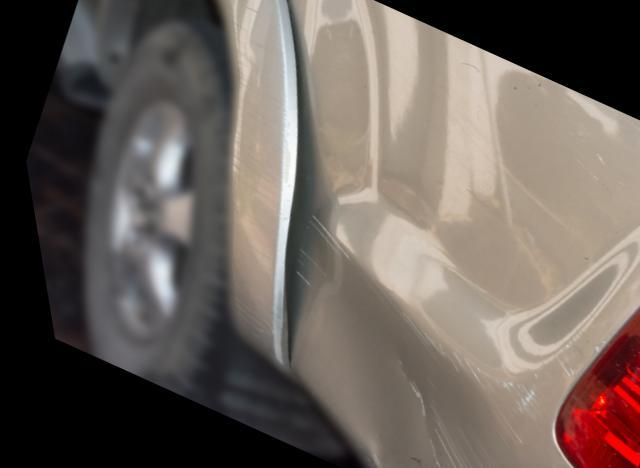dent: (283, 242, 490, 468)
scratch: (223, 0, 288, 347), (477, 323, 590, 453)
